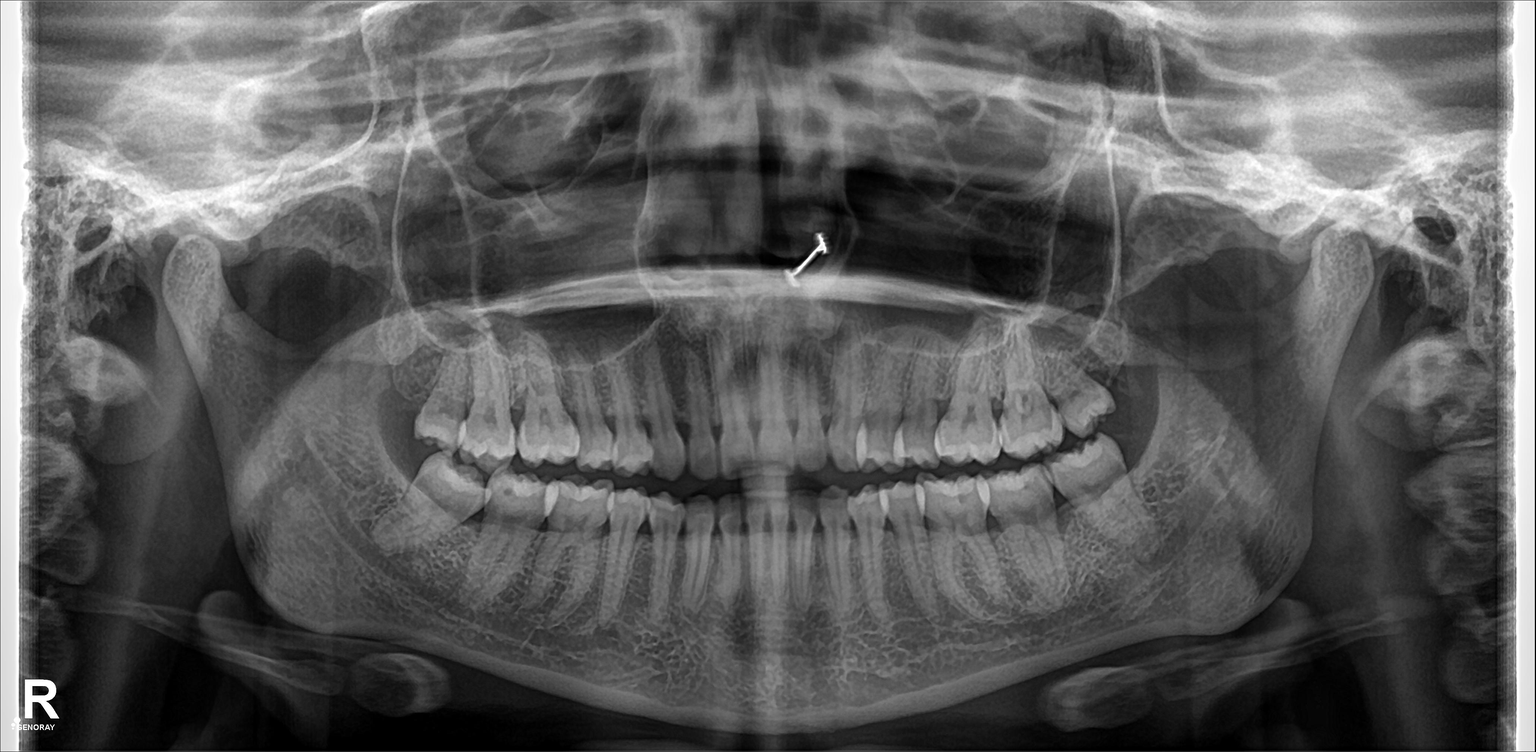Missing Tooth: (1095, 320, 1155, 401), (387, 337, 426, 432)
